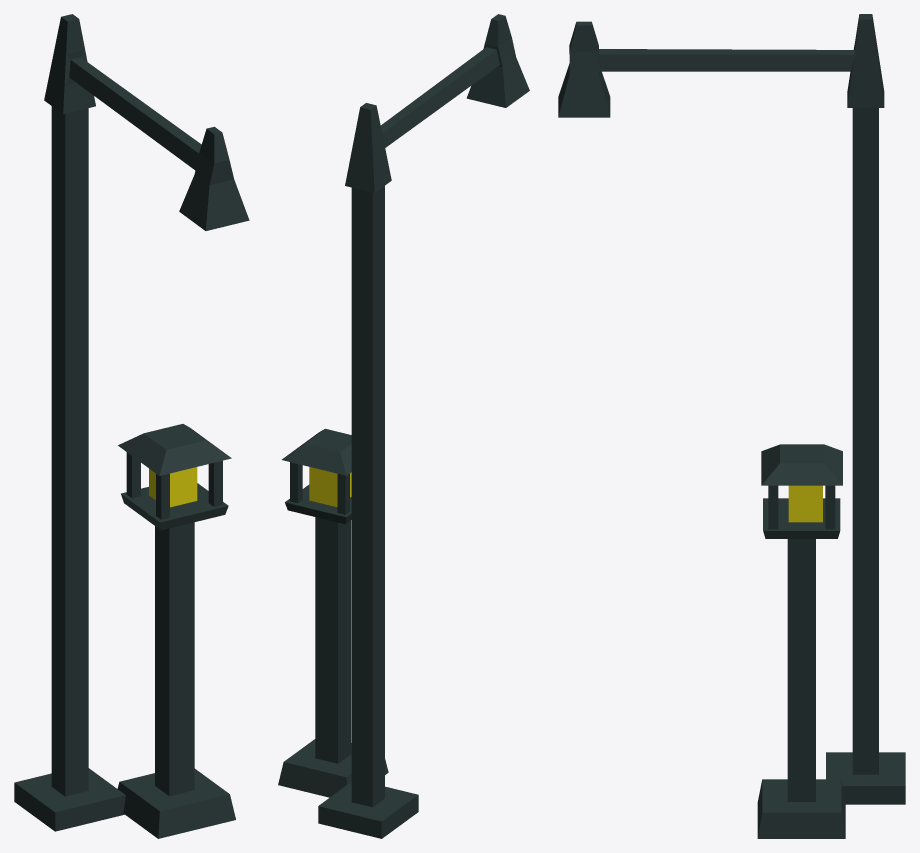
Rendered from lamparas.fbx.
The picture shows the model from 3 angles, left to right: view 1: azimuth 30°, elevation 25°; view 2: azimuth 150°, elevation 25°; view 3: azimuth 270°, elevation 25°; orthographic projection. The views are drawn at different scales.
Visible parts, largest first — view 1: Cube.054, Cube.021; view 2: Cube.054, Cube.021; view 3: Cube.054, Cube.021.
Boxes of the visible parts, x1,y1,x2,y2 form: Cube.054: [14, 14, 249, 831]; Cube.021: [117, 424, 235, 838]; Cube.054: [318, 14, 529, 838]; Cube.021: [278, 428, 388, 797]; Cube.054: [558, 14, 905, 804]; Cube.021: [757, 444, 845, 838].
Bounding box in the file's own units: 116 × 599 × 245.
